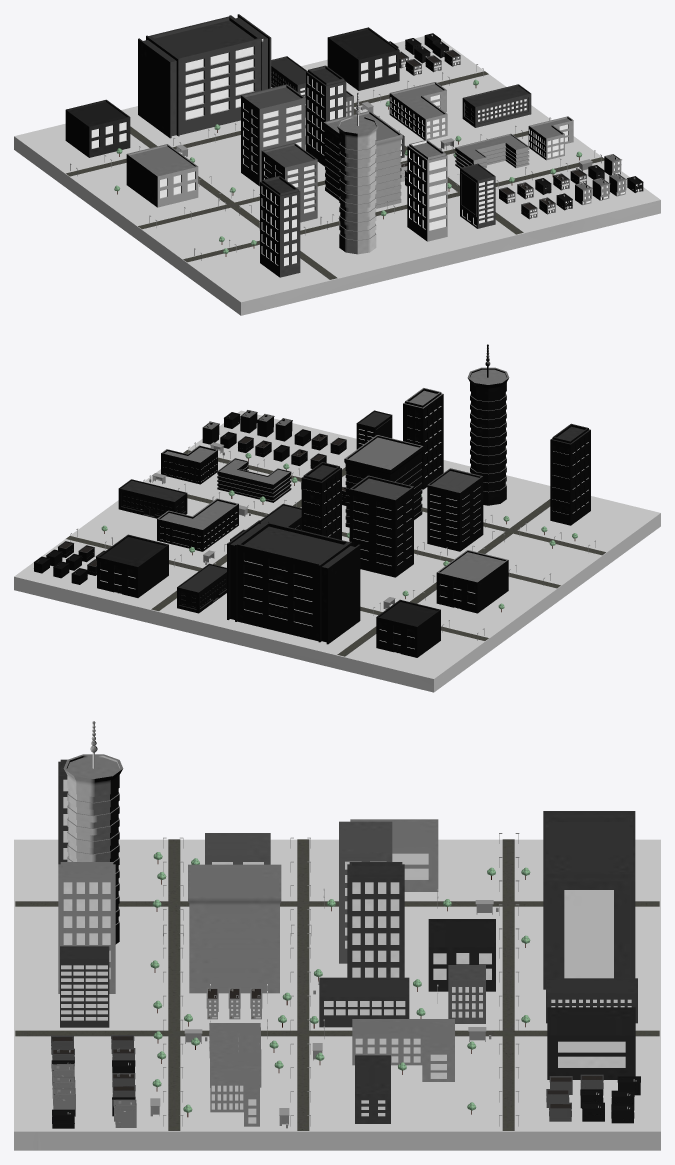
The model's file is Map.fbx.
3 renders of one model, top to bottom at view 1: azimuth 30°, elevation 25°; view 2: azimuth 150°, elevation 25°; view 3: azimuth 270°, elevation 25°, orthographic. The views are drawn at different scales.
Visible parts, largest first — view 1: Buildings_2, Platform_1, Small_buildings_2, Road_1, Trees_2, Lamps_2, Bus_stop_2; view 2: Buildings_2, Platform_1, Small_buildings_2, Road_1, Bus_stop_2, Trees_2; view 3: Platform_1, Buildings_2, Road_1, Small_buildings_2, Trees_2, Lamps_2, Bus_stop_2.
Boxes of the visible parts, left/top/right/bottom form: Buildings_2: left=65, top=14, right=573, bottom=277; Platform_1: left=14, top=36, right=660, bottom=315; Small_buildings_2: left=388, top=33, right=643, bottom=219; Road_1: left=66, top=71, right=604, bottom=279; Trees_2: left=114, top=79, right=582, bottom=256; Lamps_2: left=70, top=64, right=601, bottom=260; Bus_stop_2: left=175, top=101, right=592, bottom=171; Buildings_2: left=97, top=344, right=590, bottom=657; Platform_1: left=14, top=410, right=660, bottom=692; Small_buildings_2: left=34, top=410, right=346, bottom=584; Road_1: left=66, top=450, right=605, bottom=656; Bus_stop_2: left=149, top=442, right=395, bottom=609; Trees_2: left=101, top=453, right=577, bottom=612; Platform_1: left=14, top=839, right=660, bottom=1150; Buildings_2: left=58, top=721, right=637, bottom=1126; Road_1: left=15, top=839, right=659, bottom=1130; Small_buildings_2: left=51, top=987, right=640, bottom=1128; Trees_2: left=150, top=852, right=530, bottom=1117; Lamps_2: left=163, top=833, right=519, bottom=1126; Bus_stop_2: left=150, top=900, right=498, bottom=1128.
Size of the model in its own units: 9222 by 3507 by 8636.
7 materials, 5 textured.
